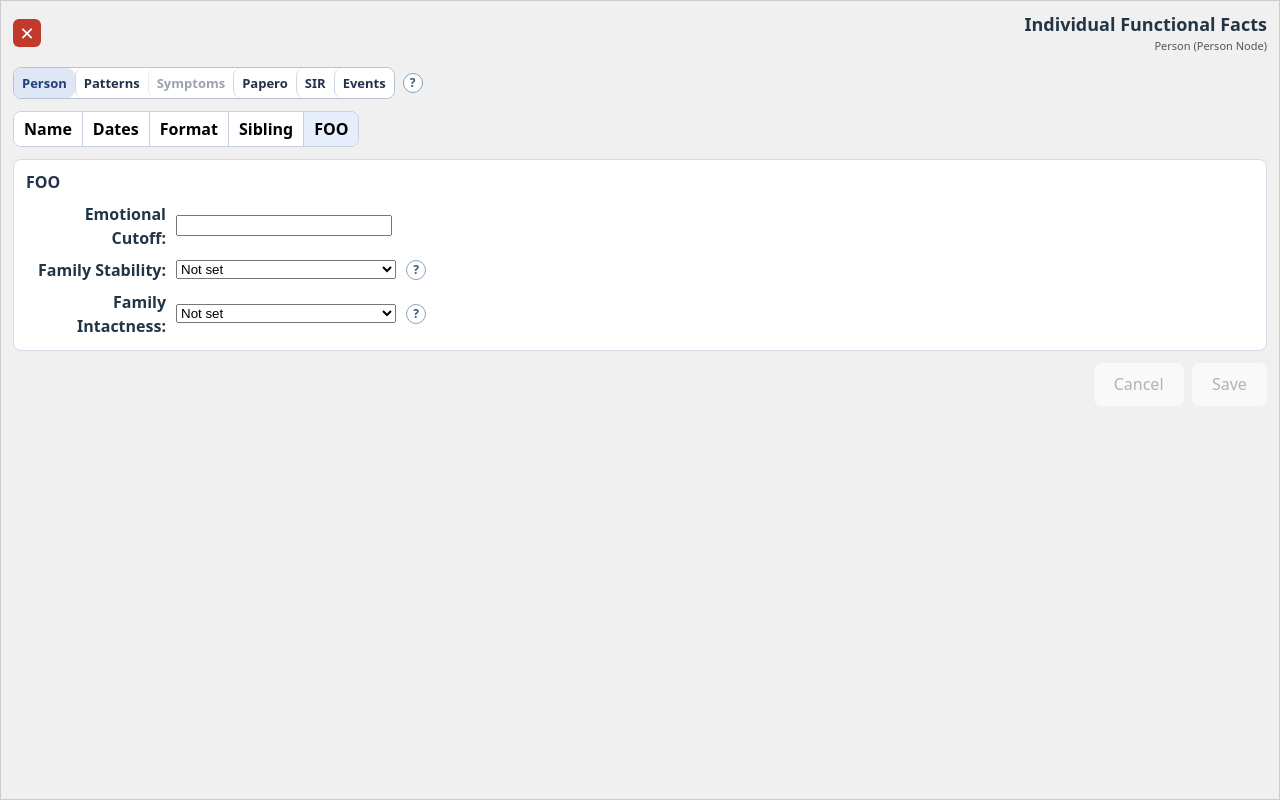
Scenario: PropertiesPanel › lets the user pick a family stability value from the FOO help box
The width and height of the screenshot is (1280, 800).
Click the button named "Family Stability help" at {"x": 416, "y": 270}, box [406,260,426,280]
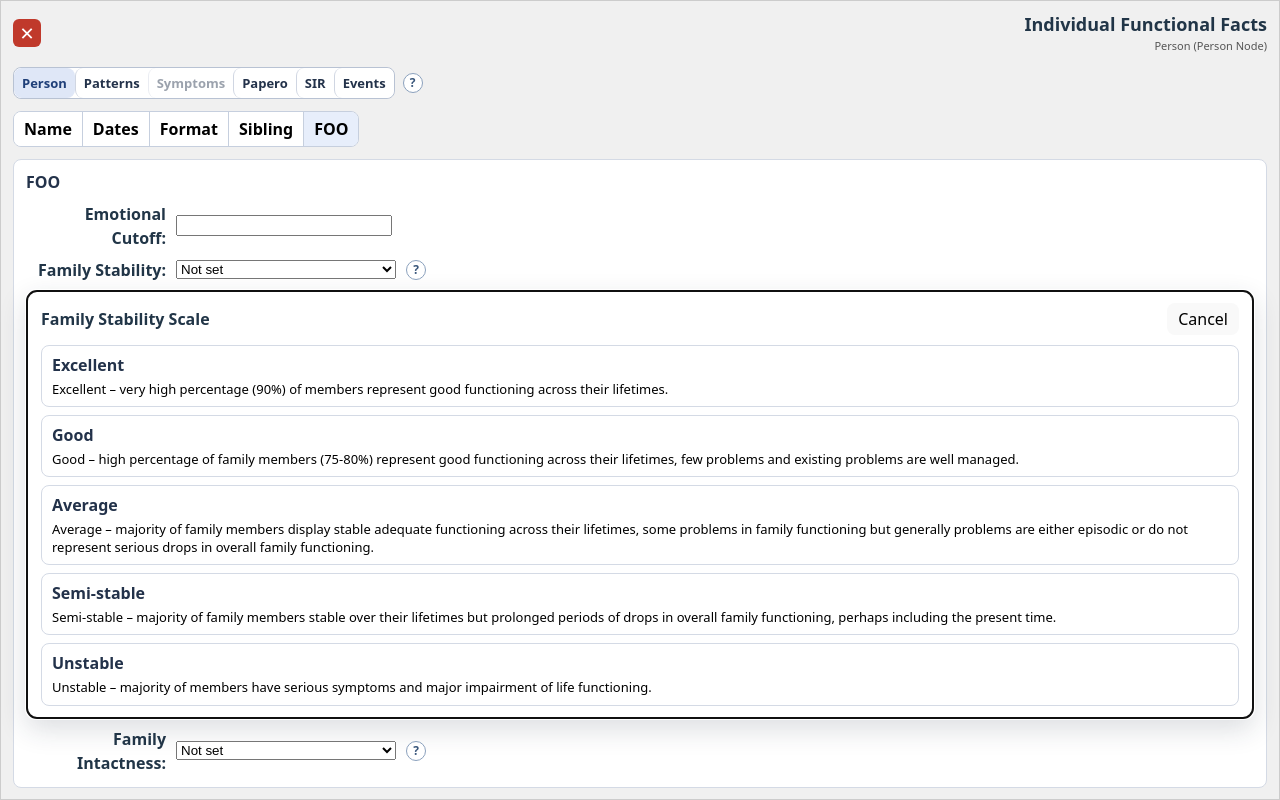
Click the button "Semi-stable" at {"x": 99, "y": 593}, box [41,573,1239,636]
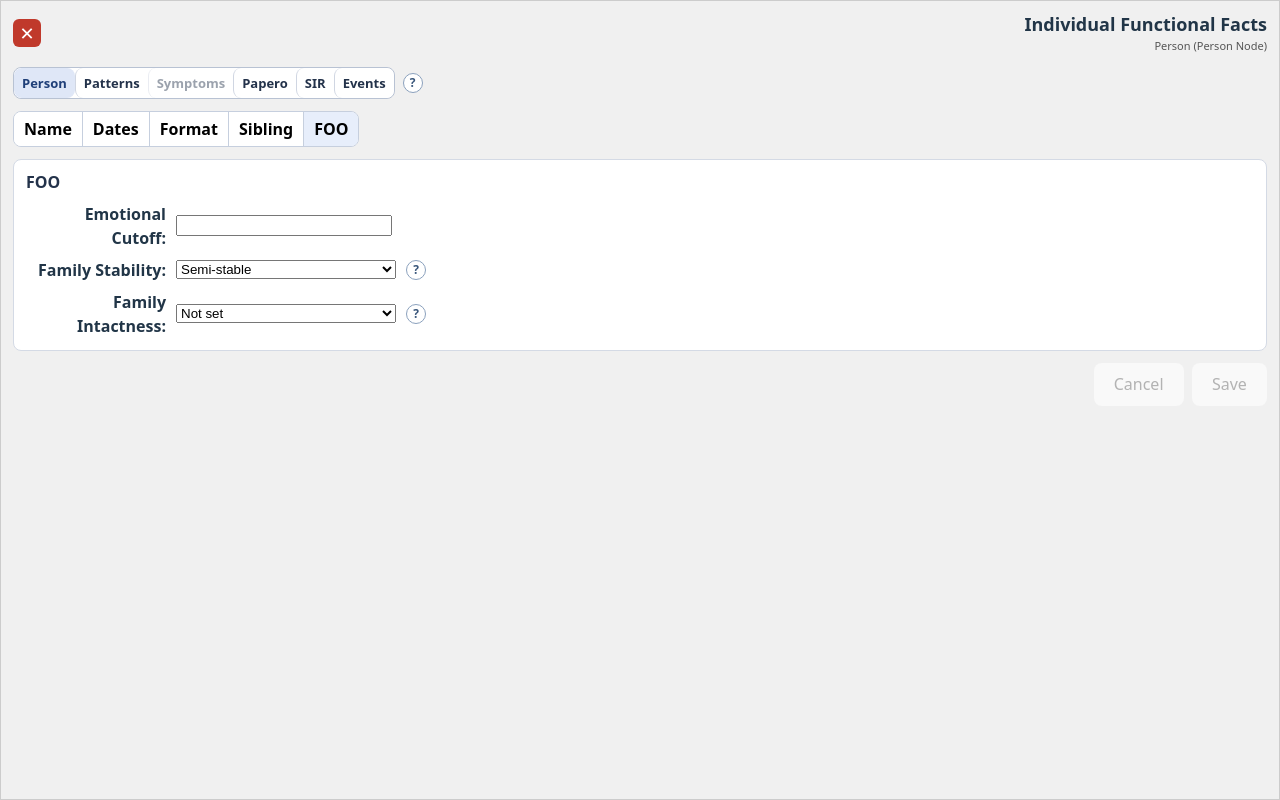
Result: the dropdown labelled "Family Stability:" shows "Semi-stable" at [176,260,396,279]
